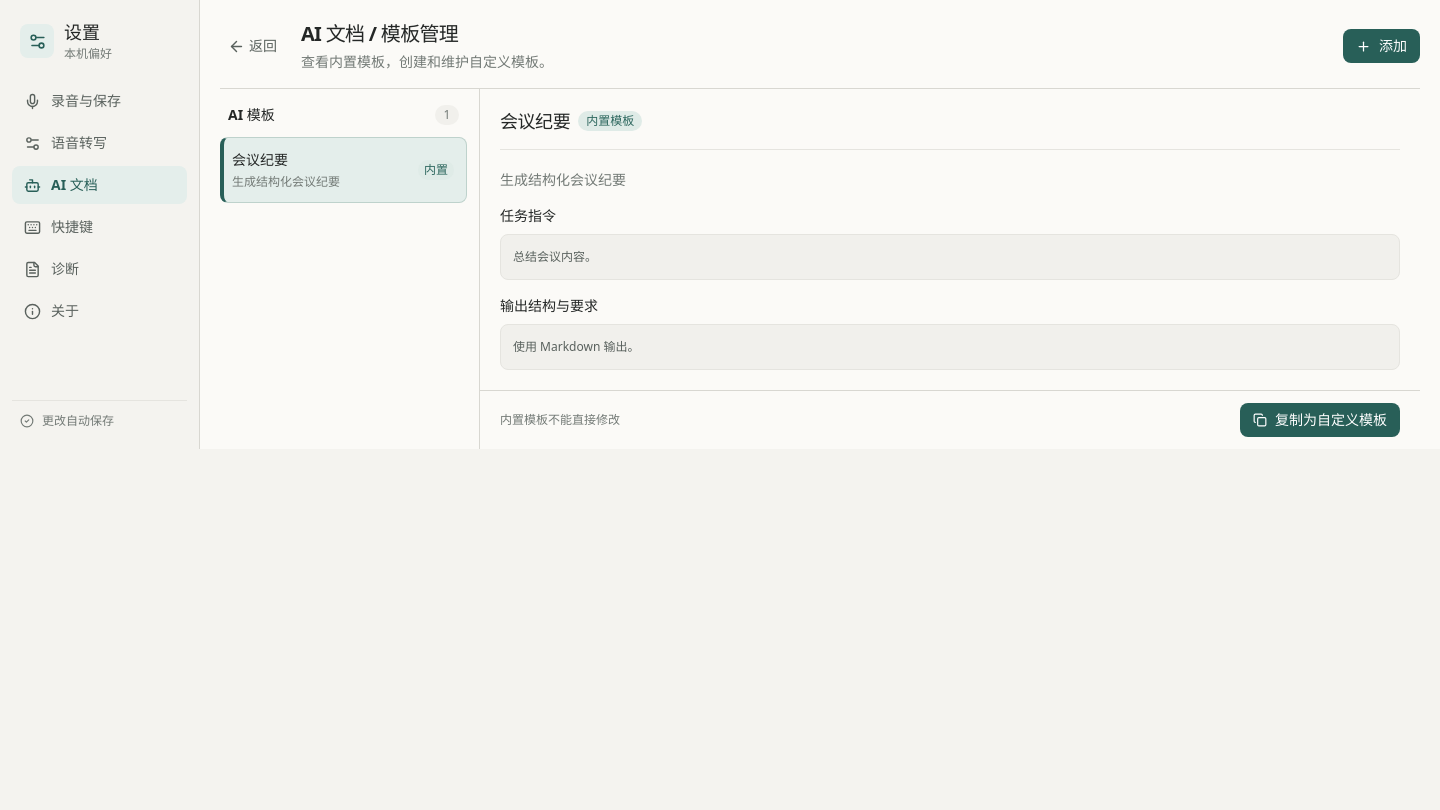
Test: Settings resource managers › copies a built-in template into an editable custom resource
Click the button "复制为自定义模板" at [1320, 420], box [1240,403,1400,437]
(page scrolled)
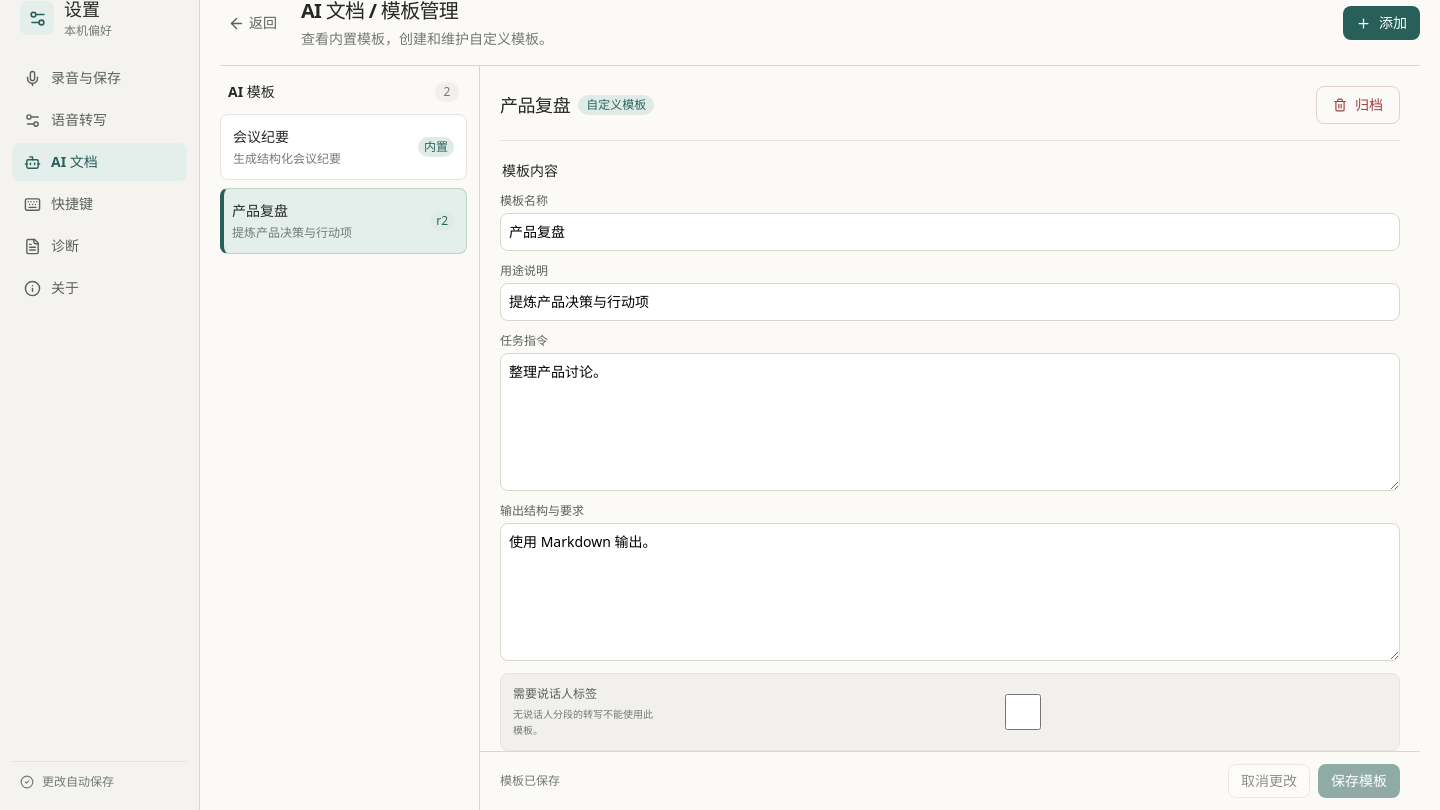
Check: the heading "产品复盘" is shown, box [500,93,570,117]
Check: the button "保存模板" is disabled, box [1318,764,1400,798]
